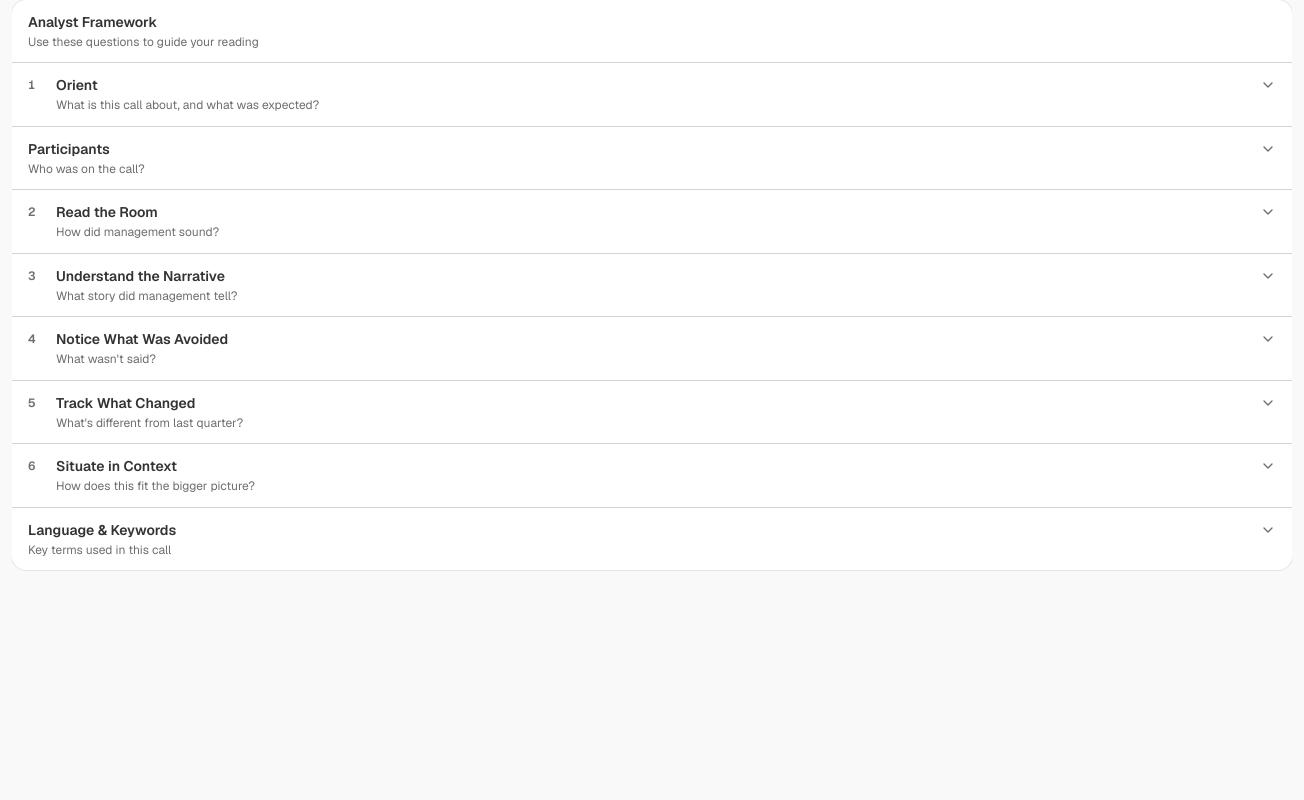
Test: MetadataPanel › expands a collapsed section when its header is clicked
This screenshot has width=1304, height=800.
Click the text "Read the Room": (107, 212) [56, 203, 158, 221]
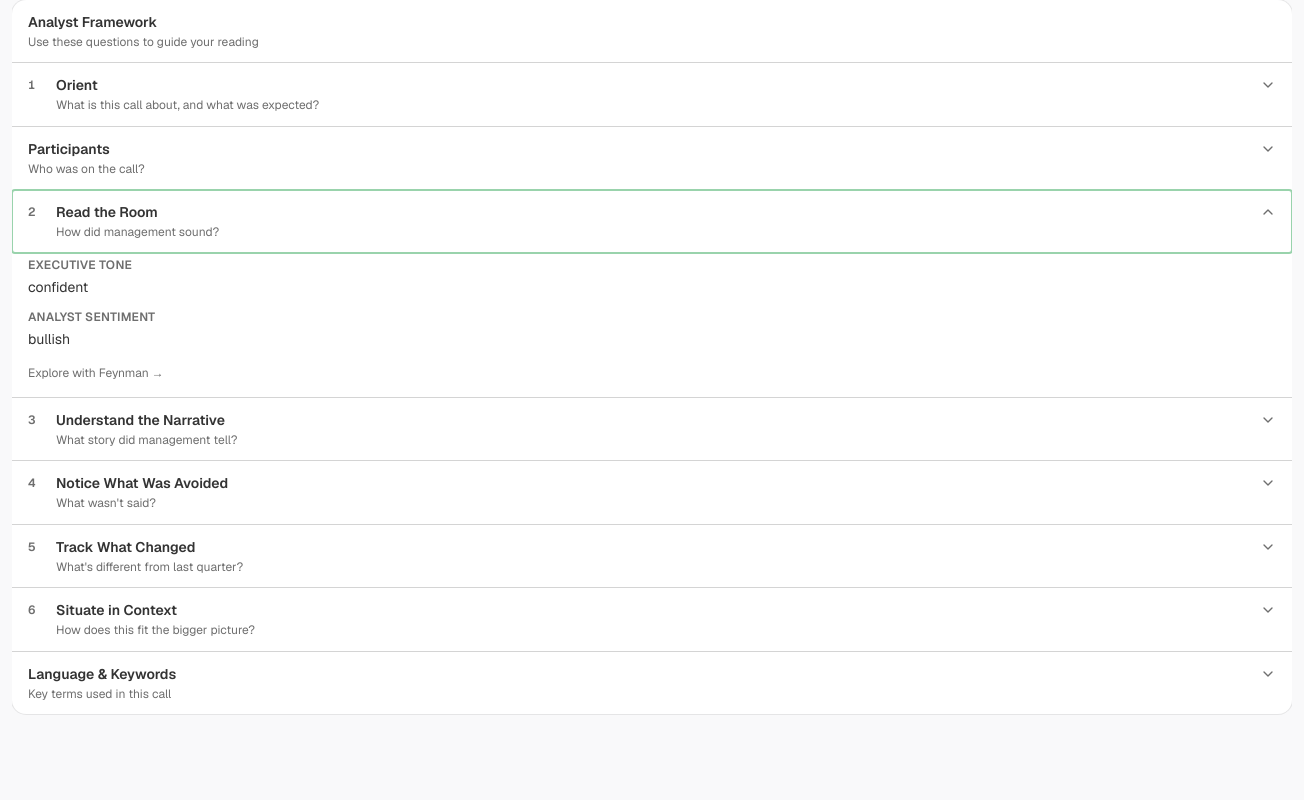
expect the text "Executive tone" is shown: met, box [28, 256, 132, 272]
